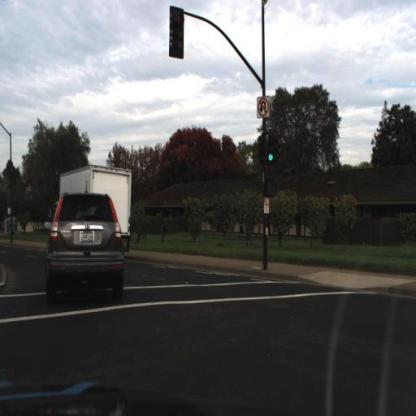car: (45, 192, 124, 301)
trafficLight-Green: (267, 130, 277, 170), (270, 140, 275, 163)
trafficLight-Red: (171, 10, 185, 56)
truck: (57, 161, 133, 255)
